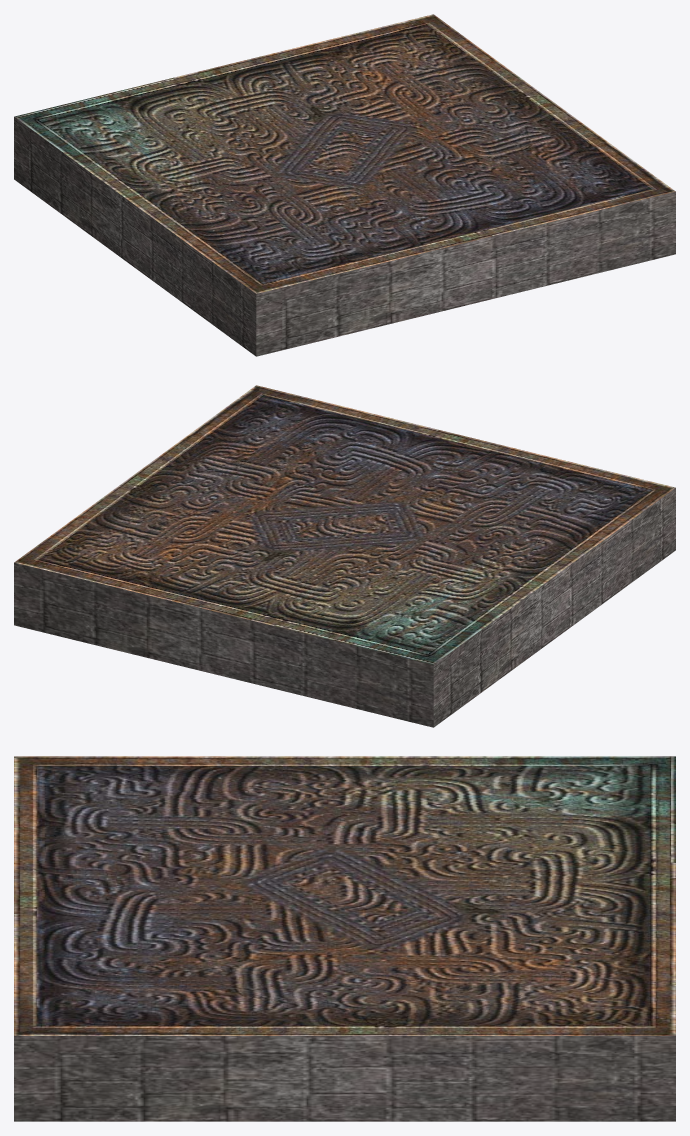
3 views of the same model, one above another, from view 1: azimuth 30°, elevation 25°; view 2: azimuth 150°, elevation 25°; view 3: azimuth 270°, elevation 25° (orthographic). The views are drawn at different scales.
Parts seen in each view (by area): view 1: Box31; view 2: Box31; view 3: Box31.
Boxes of the visible parts, left/top/right/bottom form: Box31: left=14, top=14, right=675, bottom=356; Box31: left=14, top=385, right=675, bottom=727; Box31: left=14, top=756, right=675, bottom=1121.
Size of the model in its own units: 350 by 50 by 350.
